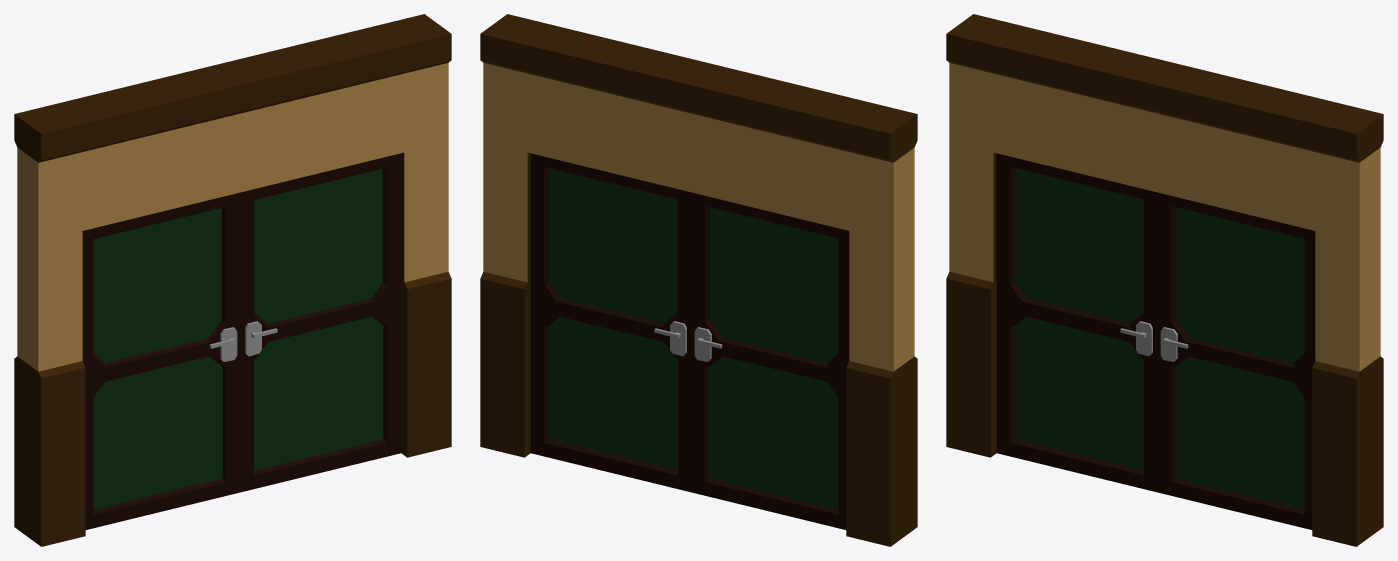
The model's file is Door.fbx.
3 views of the same model, side by side, from view 1: azimuth 30°, elevation 25°; view 2: azimuth 150°, elevation 25°; view 3: azimuth 330°, elevation 25° (orthographic).
Visible parts, largest first — view 1: Edge, Door2, Door1; view 2: Edge, Door2, Door1; view 3: Edge, Door1, Door2.
Part boxes in pixels (left/top/right/bottom): Edge: left=14, top=14, right=451, bottom=546; Door2: left=240, top=153, right=401, bottom=492; Door1: left=82, top=192, right=240, bottom=529; Edge: left=480, top=14, right=917, bottom=546; Door2: left=530, top=153, right=691, bottom=492; Door1: left=691, top=192, right=849, bottom=529; Edge: left=946, top=14, right=1383, bottom=546; Door1: left=996, top=153, right=1157, bottom=492; Door2: left=1157, top=192, right=1315, bottom=529.
Size of the model in its own units: 510 by 491 by 58.39.
